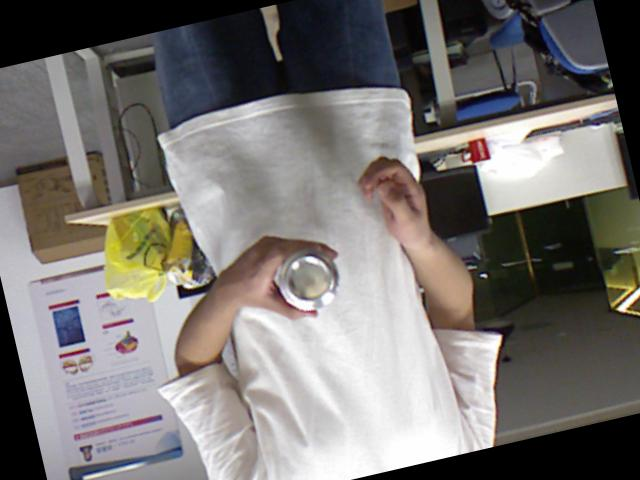metal: (273, 248, 338, 312)
